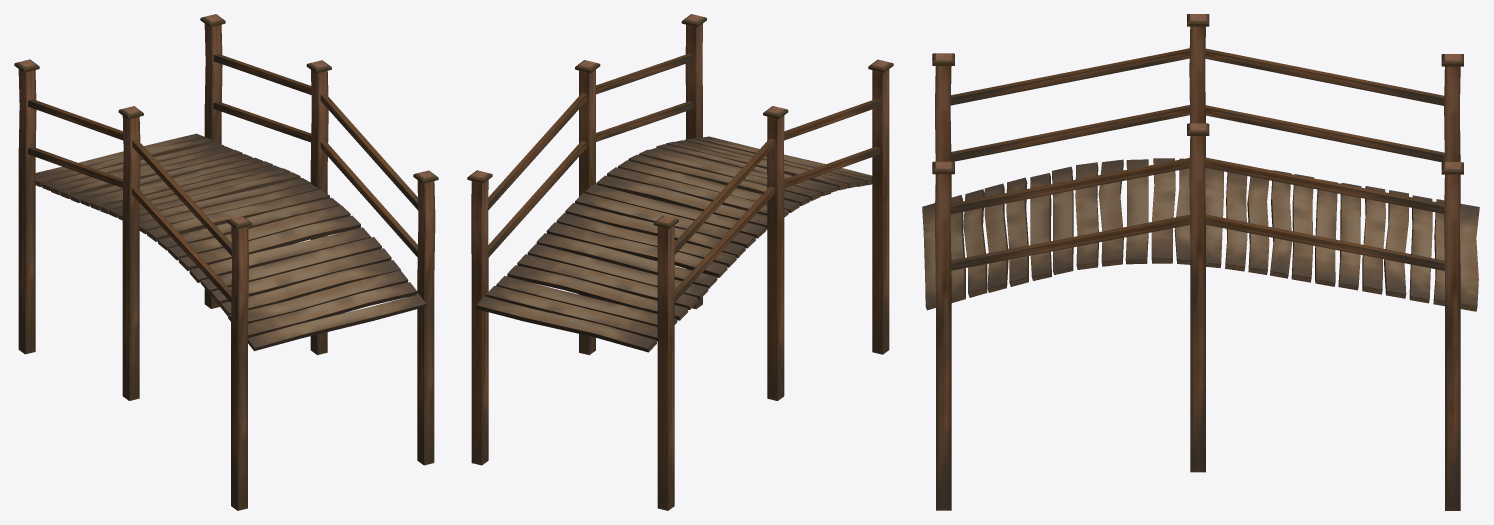
The model's file is Woodbridge.fbx.
The picture shows the model from 3 angles, left to right: view 1: azimuth 30°, elevation 25°; view 2: azimuth 150°, elevation 25°; view 3: azimuth 270°, elevation 25°; orthographic projection. The views are drawn at different scales.
Visible parts, largest first — view 1: woodbridge; view 2: woodbridge; view 3: woodbridge.
Part boxes in pixels (x1,y1,x2,y2): woodbridge: (14, 14, 438, 510); woodbridge: (467, 14, 893, 510); woodbridge: (922, 14, 1479, 510).
Bounding box in the file's own units: 6 × 8.96 × 11.88.
